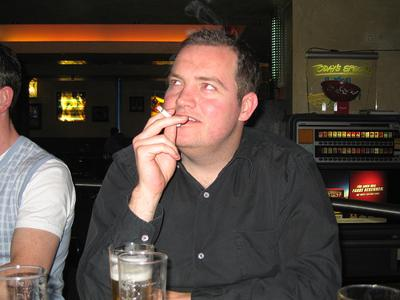person: (71, 28, 346, 299)
